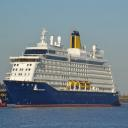cruises: (3, 28, 123, 110)
